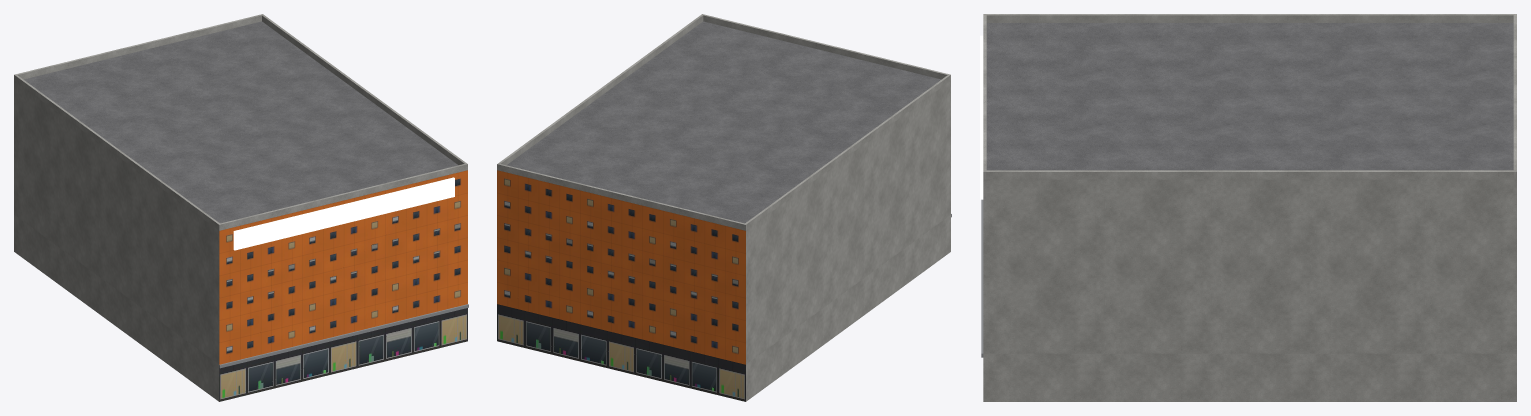
File: 093_self_storage.glb
The picture shows the model from 3 angles, left to right: view 1: azimuth 30°, elevation 25°; view 2: azimuth 150°, elevation 25°; view 3: azimuth 270°, elevation 25°; orthographic projection. The views are drawn at different scales.
Visible parts, largest first — view 1: 093_self_storage; view 2: 093_self_storage; view 3: 093_self_storage.
Boxes of the visible parts, left/top/right/bottom form: 093_self_storage: left=14, top=14, right=468, bottom=401; 093_self_storage: left=497, top=14, right=951, bottom=401; 093_self_storage: left=980, top=14, right=1516, bottom=401.
Bounding box in the file's own units: 35 × 23.8 × 50.3.
Materials: 6 (4 with a texture image).
